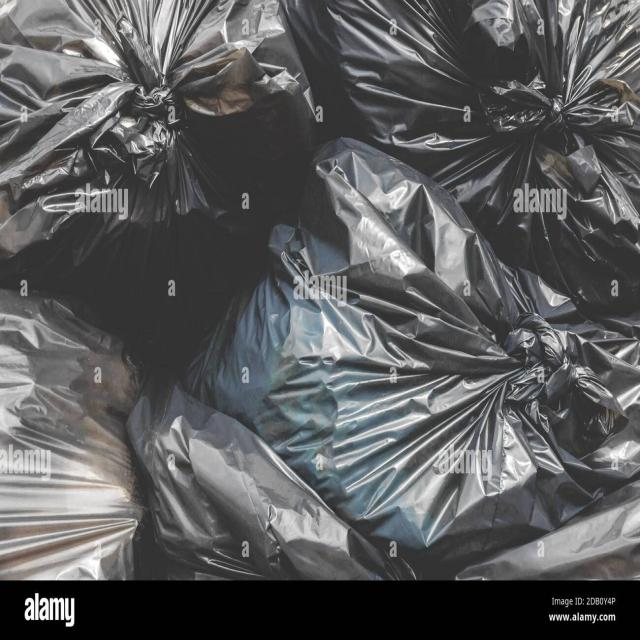Single-layer Plastic: (185, 139, 640, 567), (0, 0, 320, 366), (284, 0, 640, 313), (128, 379, 414, 579), (0, 289, 144, 579)
